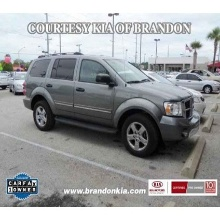no damage: (23, 51, 201, 157), (170, 71, 219, 96), (1, 69, 23, 95)
